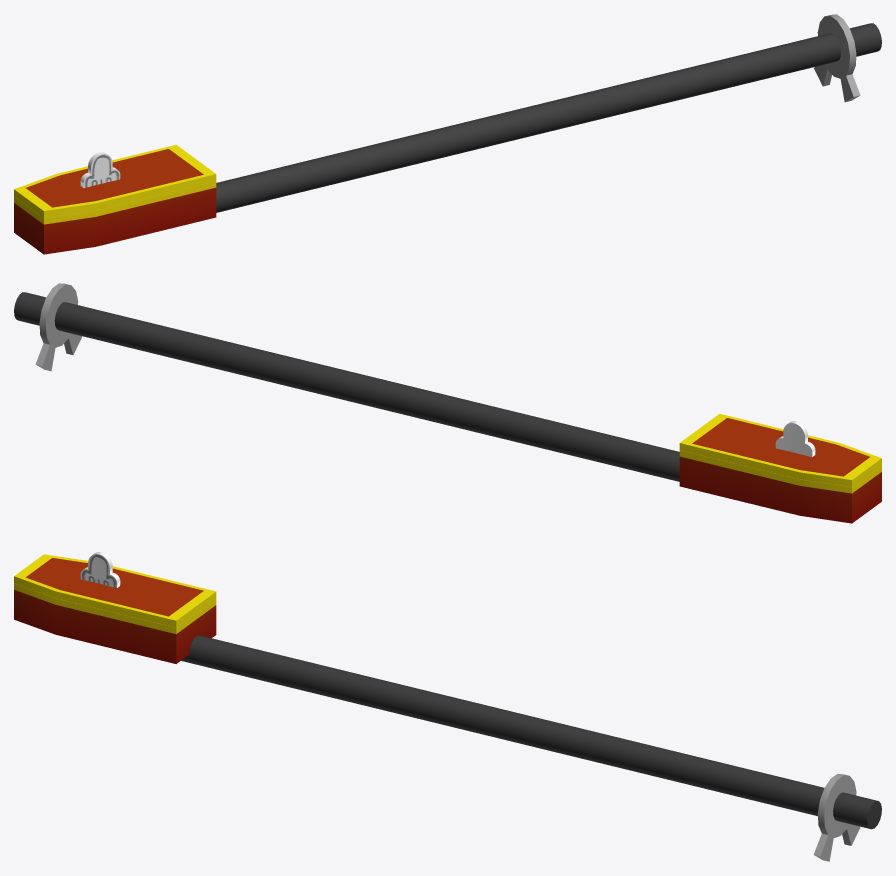
File: environment 1.fbx
3 renders of one model, top to bottom at view 1: azimuth 30°, elevation 25°; view 2: azimuth 150°, elevation 25°; view 3: azimuth 330°, elevation 25°, orthographic.
Parts seen in each view (by area): view 1: swing_cylinder, coffin, swing, tombstone; view 2: swing_cylinder, coffin, swing, tombstone; view 3: swing_cylinder, coffin, swing, tombstone.
Part boxes in pixels (box(x1,y1,x2,y2)): swing_cylinder: box(216, 23, 881, 212); coffin: box(14, 144, 216, 254); swing: box(814, 14, 860, 102); tombstone: box(80, 152, 120, 187); swing_cylinder: box(14, 292, 679, 481); coffin: box(679, 413, 881, 523); swing: box(35, 283, 81, 371); tombstone: box(775, 421, 815, 456); swing_cylinder: box(181, 635, 881, 829); coffin: box(14, 554, 216, 663); swing: box(813, 774, 860, 861); tombstone: box(80, 552, 120, 587).
Bounding box in the file's own units: 1011 × 137 × 82.93.
